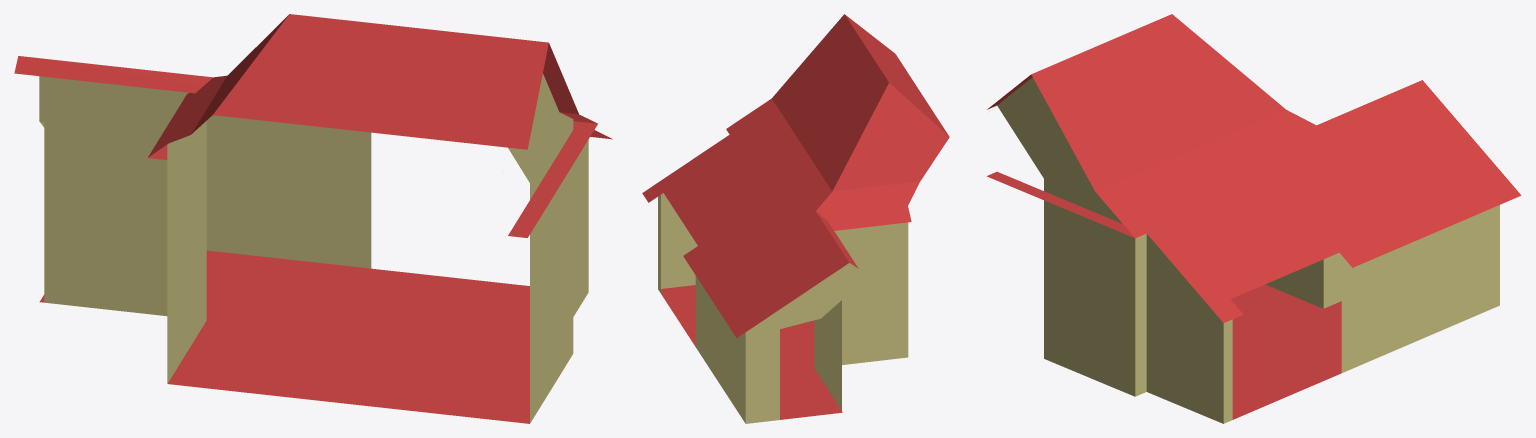
The picture shows the model from 3 angles, left to right: view 1: azimuth 30°, elevation 25°; view 2: azimuth 150°, elevation 25°; view 3: azimuth 270°, elevation 25°; orthographic projection. The views are drawn at different scales.
Bounding box in the file's own units: 19.89 × 26.49 × 15.51.
